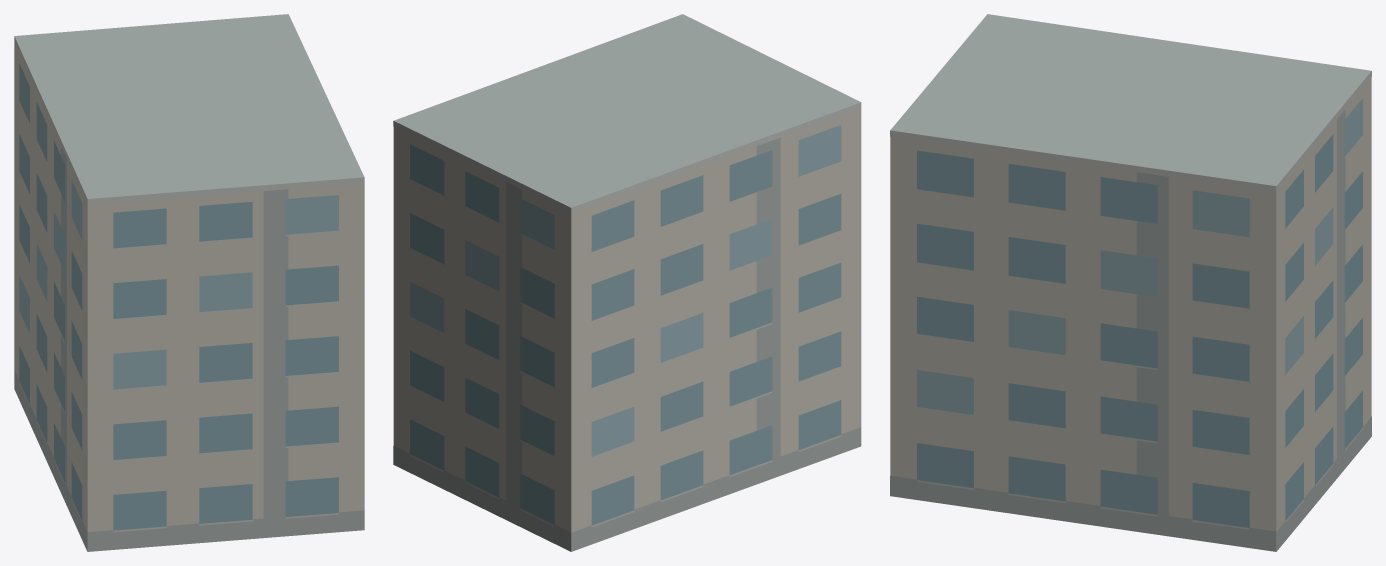
Rendered from survey-upis-32885786.glb.
The picture shows the model from 3 angles, left to right: view 1: azimuth 30°, elevation 25°; view 2: azimuth 150°, elevation 25°; view 3: azimuth 270°, elevation 25°; orthographic projection. The views are drawn at different scales.
Parts seen in each view (by area): view 1: survey-upis-32885786.tmp; view 2: survey-upis-32885786.tmp; view 3: survey-upis-32885786.tmp.
Part boxes in pixels (x1,y1,x2,y2): survey-upis-32885786.tmp: (14, 14, 364, 551); survey-upis-32885786.tmp: (393, 14, 861, 551); survey-upis-32885786.tmp: (890, 14, 1371, 551).
Bounding box in the file's own units: 14.45 × 14.3 × 17.08.
